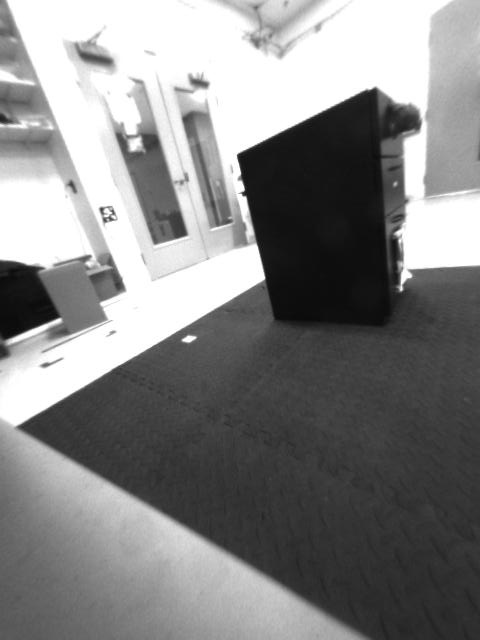door_handle: (167, 174, 188, 192)
drawer: (389, 96, 428, 140)
